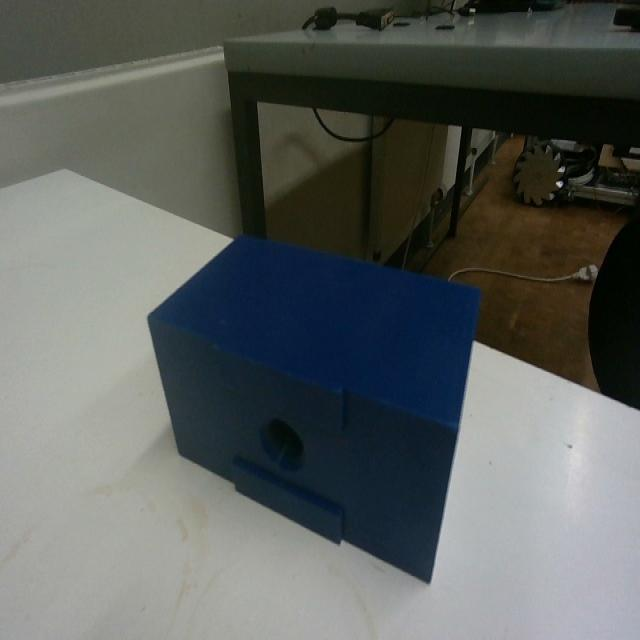Blue Cuboid: (145, 228, 482, 584)
